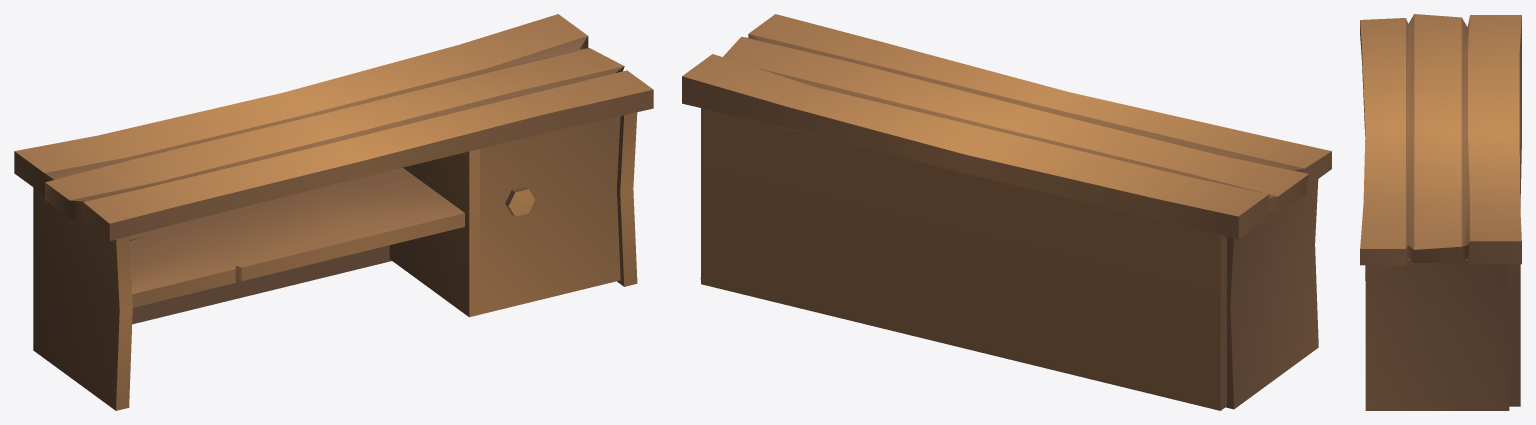
File: table.fbx
3 views of the same model, side by side, from view 1: azimuth 30°, elevation 25°; view 2: azimuth 150°, elevation 25°; view 3: azimuth 270°, elevation 25° (orthographic). The views are drawn at different scales.
Visible parts, largest first — view 1: tablepart3, tablepart7, tablepart1, tablepart5, tablepart6, tablepart2, tablepart4; view 2: tablepart2, tablepart3, tablepart5; view 3: tablepart3, tablepart4, tablepart2.
Part boxes in pixels (left/top/right/bottom): tablepart3: left=14, top=14, right=653, bottom=241; tablepart7: left=480, top=116, right=620, bottom=314; tablepart1: left=129, top=167, right=464, bottom=307; tablepart5: left=33, top=188, right=132, bottom=410; tablepart6: left=389, top=149, right=479, bottom=317; tablepart2: left=33, top=187, right=391, bottom=341; tablepart4: left=617, top=112, right=637, bottom=286; tablepart2: left=701, top=108, right=1226, bottom=410; tablepart3: left=682, top=14, right=1331, bottom=239; tablepart5: left=1226, top=179, right=1318, bottom=409; tablepart3: left=1360, top=14, right=1521, bottom=265; tablepart4: left=1365, top=258, right=1509, bottom=410; tablepart2: left=1509, top=208, right=1520, bottom=406.
Bounding box in the file's own units: 160 × 55.46 × 46.62.
